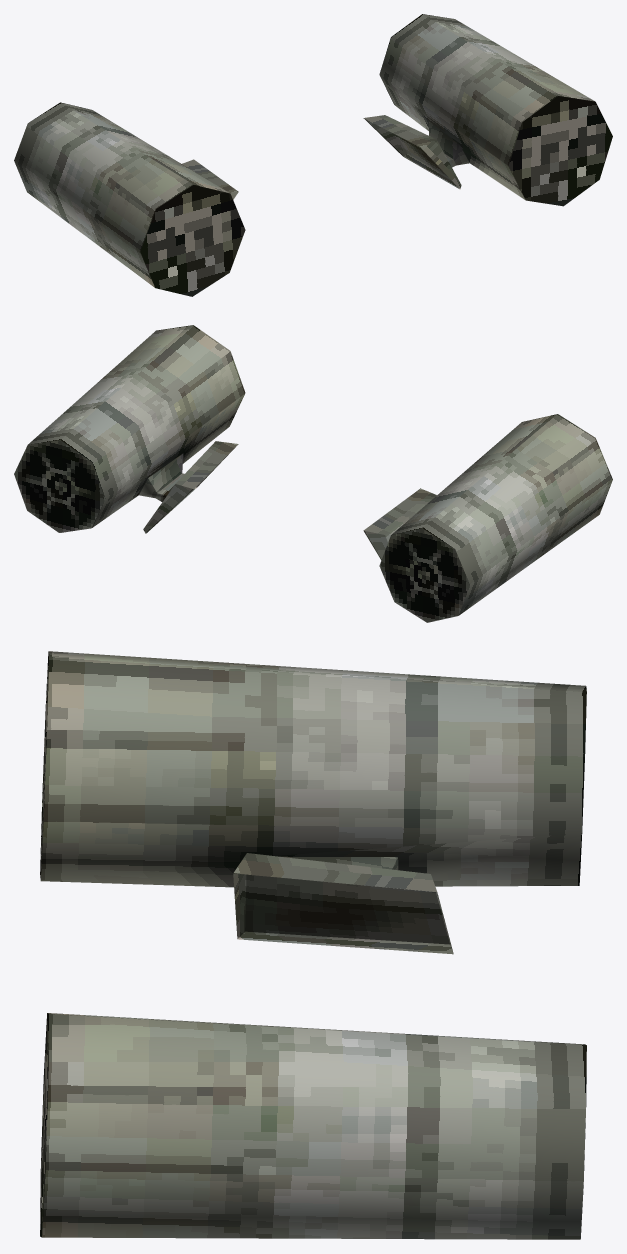
The model's file is z95_booster_s02_l2.fbx.
3 renders of one model, top to bottom at view 1: azimuth 30°, elevation 25°; view 2: azimuth 150°, elevation 25°; view 3: azimuth 270°, elevation 25°, orthographic. The views are drawn at different scales.
Visible parts, largest first — view 1: mesh_node; view 2: mesh_node; view 3: mesh_node.
Part boxes in pixels (box(x1,y1,x2,y2)): mesh_node: box(14, 14, 612, 296); mesh_node: box(14, 325, 612, 622); mesh_node: box(40, 651, 586, 1239).
Size of the model in its own units: 3.8 by 0.9351 by 1.9.
